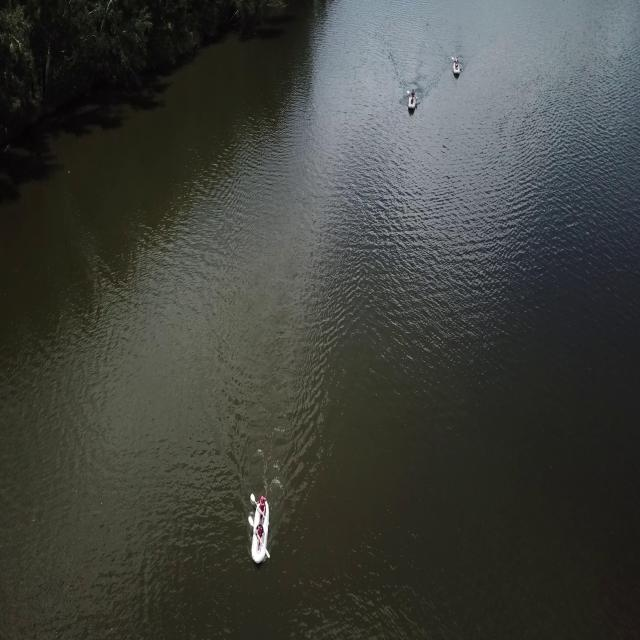kayak: (247, 495, 274, 568), (406, 91, 418, 118), (451, 59, 462, 82)
